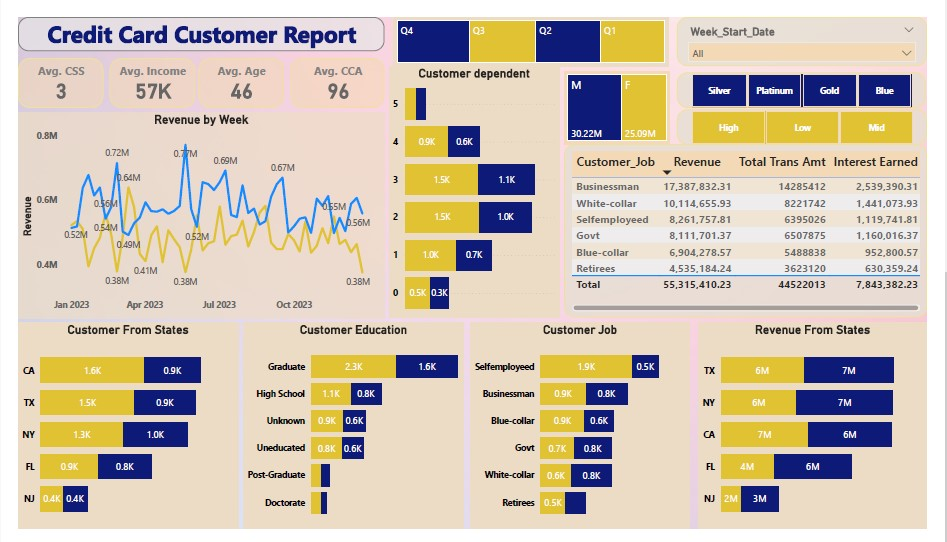

The page's visual inventory and layout, read from the dashboard file:
{"tool":"powerbi","page":{"name":"Page 1","canvas":[1280,720],"ordinal":1},"visuals":[{"type":"textbox","box":[0,0,515.9,48.2],"z":0},{"type":"barChart","title":"Customer From States","fields":{"Y":["CountNonNull(ccdb customer.Client_Num)"],"Category":["ccdb customer.state_cd"],"Series":["ccdb customer.Gender"]},"box":[0,430.1,310,289.5],"z":1000},{"type":"card","title":"Avg. CSS","fields":{"Values":["Avg(ccdb customer.Cust_Satisfaction_Score)"]},"box":[0,58.1,120,70],"z":2000},{"type":"card","title":"Avg. Income","fields":{"Values":["Avg(ccdb customer.Income)"]},"box":[129,58.1,120.5,69.4],"z":3000},{"type":"card","title":"Avg. Age","fields":{"Values":["Avg(ccdb customer.Customer_Age)"]},"box":[253.7,58.1,120.5,69.4],"z":4000},{"type":"slicer","fields":{"Values":["ccdb credit_card.Week_Start_Date"]},"box":[928.3,0,351.5,69.4],"z":5000},{"type":"treemap","fields":{"Group":["ccdb credit_card.Qtr"],"Values":["Avg(ccdb credit_card.Client_Num)"]},"box":[528.7,0,386.9,69.4],"z":6000},{"type":"slicer","fields":{"Values":["ccdb credit_card.Card_Category"]},"box":[928.3,78,350.1,49.6],"z":7000},{"type":"slicer","fields":{"Values":["ccdb customer.Income_group"]},"box":[928.3,130.4,351.5,49.6],"z":8000},{"type":"card","title":"Avg. CCA","fields":{"Values":["Avg(ccdb credit_card.Customer_Acq_Cost)"]},"box":[384.1,58.1,131.8,69.4],"z":9000},{"type":"lineChart","title":"Revenue by Week","fields":{"Y":["Sum(ccdb credit_card.Revenue)"],"Series":["ccdb customer.Gender"],"Category":["ccdb credit_card.Week_Start_Date.Variation.Date Hierarchy.Year","ccdb credit_card.Week_Start_Date.Variation.Date Hierarchy.Month","ccdb credit_card.Week_Start_Date.Variation.Date Hierarchy.Day"]},"box":[0,133.8,516.4,290],"z":10000},{"type":"treemap","fields":{"Values":["Sum(ccdb credit_card.Revenue)"],"Group":["ccdb customer.Gender"]},"box":[768.7,76.2,149,103.3],"z":11000},{"type":"tableEx","fields":{"Values":["ccdb customer.Customer_Job","Sum(ccdb credit_card.Revenue)","Sum(ccdb credit_card.Total_Trans_Amt)","Sum(ccdb credit_card.Interest_Earned)"]},"box":[768.7,179.5,511.3,243.8],"z":12000},{"type":"barChart","title":"Customer Education","fields":{"Y":["CountNonNull(ccdb customer.Client_Num)"],"Category":["ccdb customer.Education_Level"],"Series":["ccdb customer.Gender"]},"box":[316.6,430.1,311.5,289.5],"z":13000},{"type":"barChart","title":"Customer Job","fields":{"Y":["CountNonNull(ccdb customer.Client_Num)"],"Category":["ccdb customer.Customer_Job"],"Series":["ccdb customer.Gender"]},"box":[636.6,430.1,309.8,289.5],"z":14000},{"type":"barChart","title":"Revenue From States","fields":{"Y":["Sum(ccdb credit_card.Revenue)"],"Category":["ccdb customer.state_cd"],"Series":["ccdb customer.Gender"]},"box":[958.3,430.1,321.7,289.5],"z":15000},{"type":"barChart","title":"Customer dependent","fields":{"Category":["ccdb customer.Dependent_Count"],"Series":["ccdb customer.Gender"],"Y":["CountNonNull(ccdb customer.Client_Num)"]},"box":[523.2,69.4,238.7,353.9],"z":16000}]}

Visuals, with their boxes in screenshot pixels (x1, y1, x2, y2), scaled from the page's 1280x720 canvas onto the 947x542 screenshot:
textbox: box=[0, 0, 382, 36]
"Customer From States" barChart: box=[0, 324, 229, 541]
"Avg. CSS" card: box=[0, 44, 89, 96]
"Avg. Income" card: box=[95, 44, 185, 96]
"Avg. Age" card: box=[188, 44, 277, 96]
slicer - ccdb credit_card.Week_Start_Date: box=[687, 0, 946, 52]
treemap - ccdb credit_card.Qtr x Avg(ccdb credit_card.Client_Num): box=[391, 0, 677, 52]
slicer - ccdb credit_card.Card_Category: box=[687, 59, 946, 96]
slicer - ccdb customer.Income_group: box=[687, 98, 946, 136]
"Avg. CCA" card: box=[284, 44, 382, 96]
"Revenue by Week" lineChart: box=[0, 101, 382, 319]
treemap - Sum(ccdb credit_card.Revenue) x ccdb customer.Gender: box=[569, 57, 679, 135]
tableEx - ccdb customer.Customer_Job x Sum(ccdb credit_card.Revenue): box=[569, 135, 946, 319]
"Customer Education" barChart: box=[234, 324, 465, 541]
"Customer Job" barChart: box=[471, 324, 700, 541]
"Revenue From States" barChart: box=[709, 324, 946, 541]
"Customer dependent" barChart: box=[387, 52, 564, 319]
